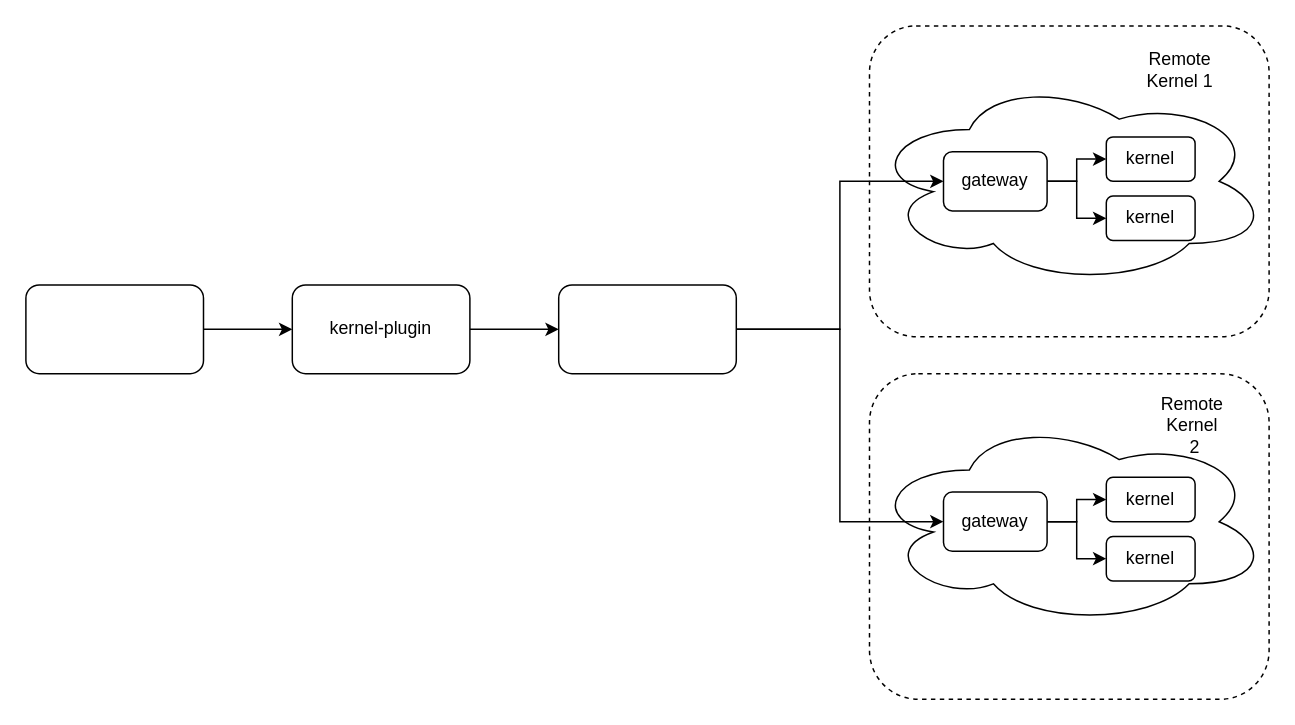
Image size: 1295x725. Some labels were removed from this diagram. The centre of each missing label's shape, as x and y in pixels:
"jupyter lab" belongs at (x=114, y=328).
"kernel-service" belongs at (x=646, y=328).
